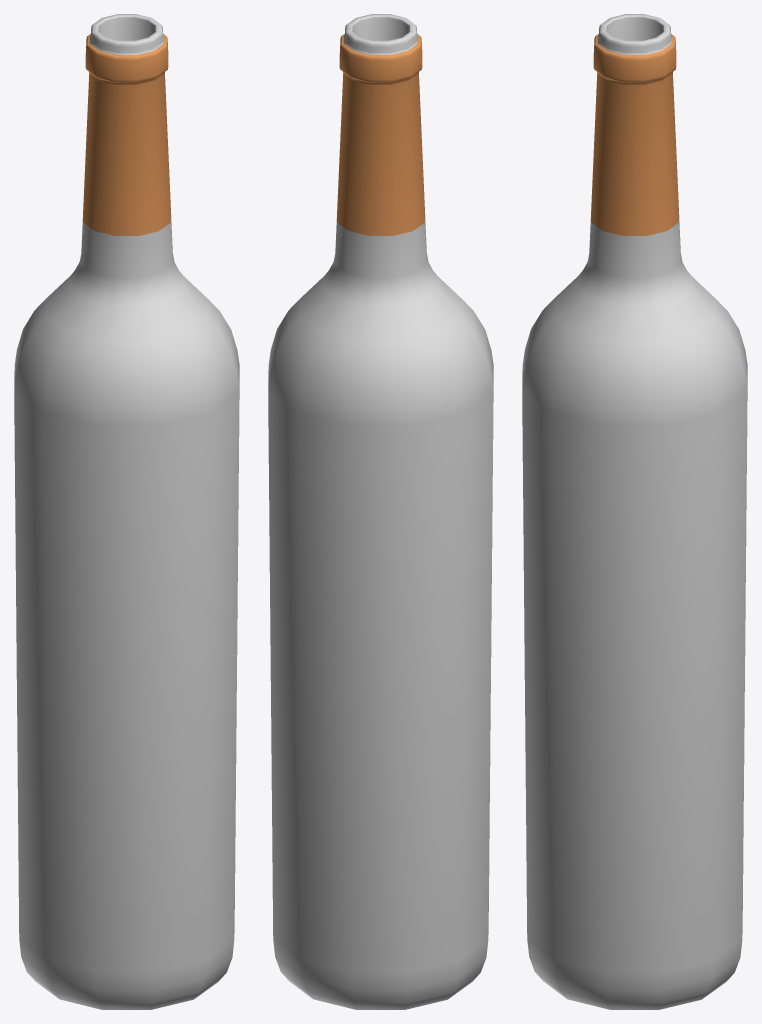
The model's file is Cyrnus Wine Bottle2.fbx.
The picture shows the model from 3 angles, left to right: view 1: azimuth 30°, elevation 25°; view 2: azimuth 150°, elevation 25°; view 3: azimuth 270°, elevation 25°; orthographic projection.
Parts seen in each view (by area): view 1: WineBottle.001; view 2: WineBottle.001; view 3: WineBottle.001.
Part boxes in pixels (box(x1,y1,x2,y2)): WineBottle.001: box(14, 14, 239, 1009); WineBottle.001: box(268, 14, 493, 1009); WineBottle.001: box(522, 14, 747, 1009).
Size of the model in its own units: 98.63 by 456 by 98.62.
